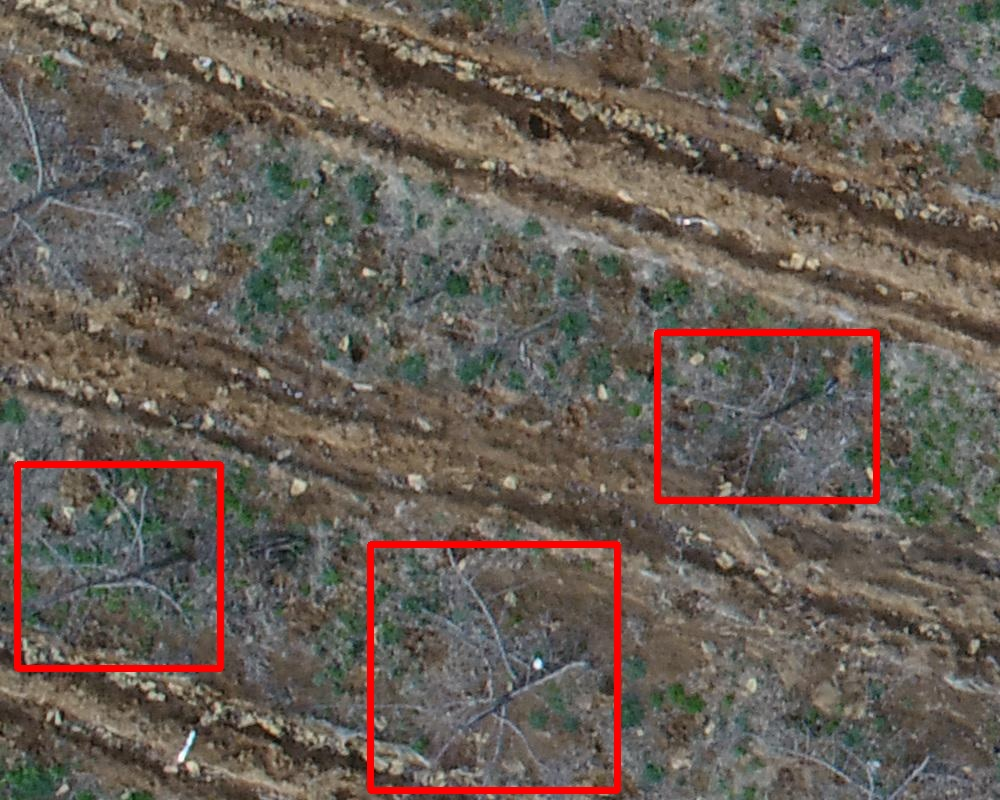apple: (370, 544, 617, 790), (17, 464, 220, 668), (657, 332, 876, 500)
